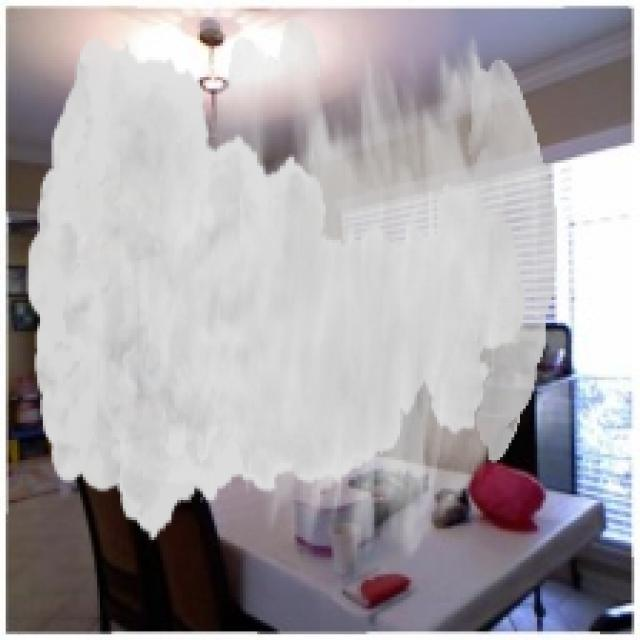Smoke: (25, 17, 558, 563)
